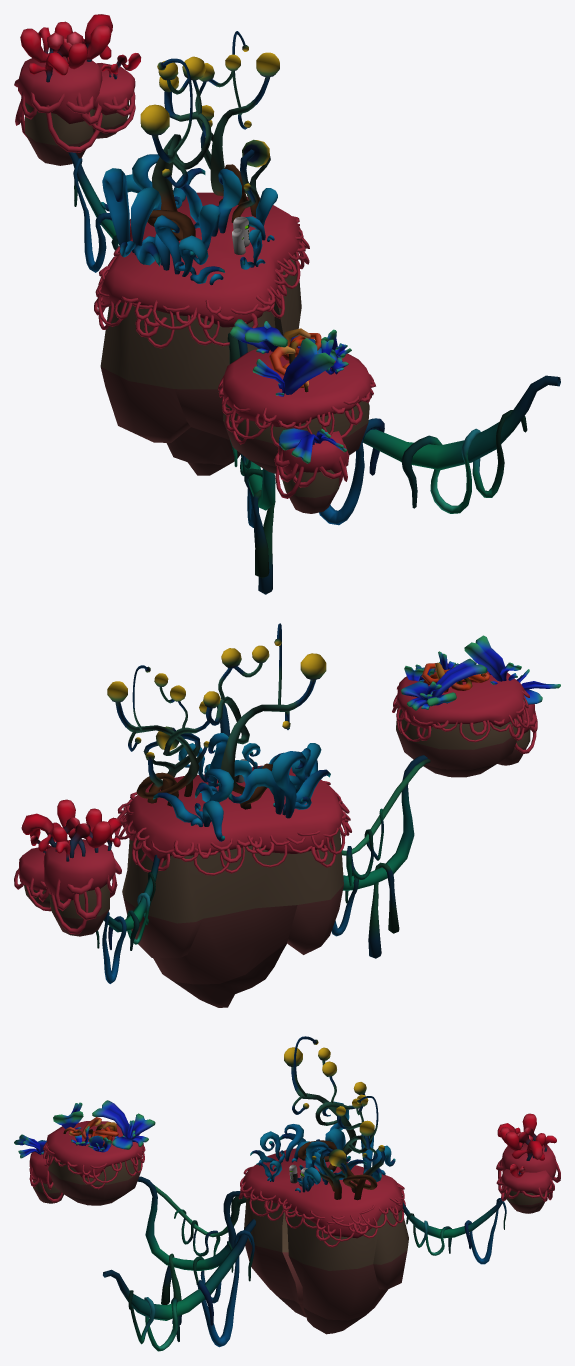
File: Alien_Island10.fbx
3 views of the same model, one above another, from view 1: azimuth 30°, elevation 25°; view 2: azimuth 150°, elevation 25°; view 3: azimuth 270°, elevation 25° (orthographic). The views are drawn at different scales.
Visible parts, largest first — view 1: Alien_Island10; view 2: Alien_Island10; view 3: Alien_Island10.
Boxes of the visible parts, <box> form: Alien_Island10: <box>14,14,560,594</box>; Alien_Island10: <box>14,623,560,1007</box>; Alien_Island10: <box>14,1036,560,1351</box>.
Bounding box in the file's own units: 19262 × 24619 × 41566.
